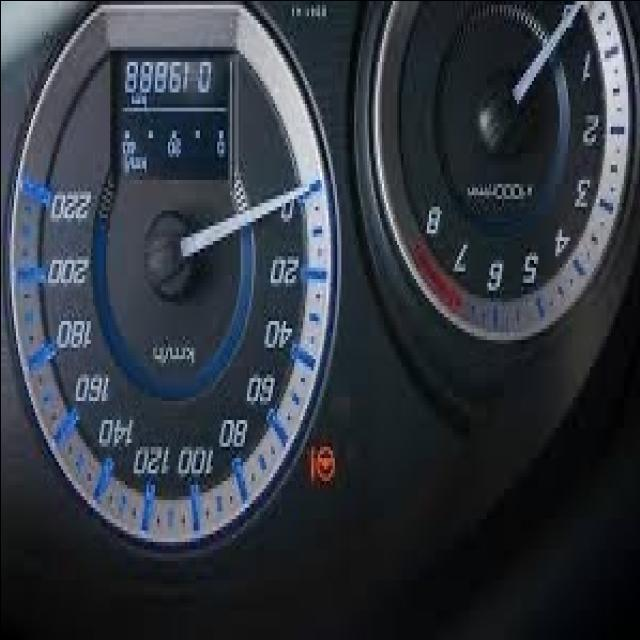Electronic Power Steering: (304, 442, 340, 487)
